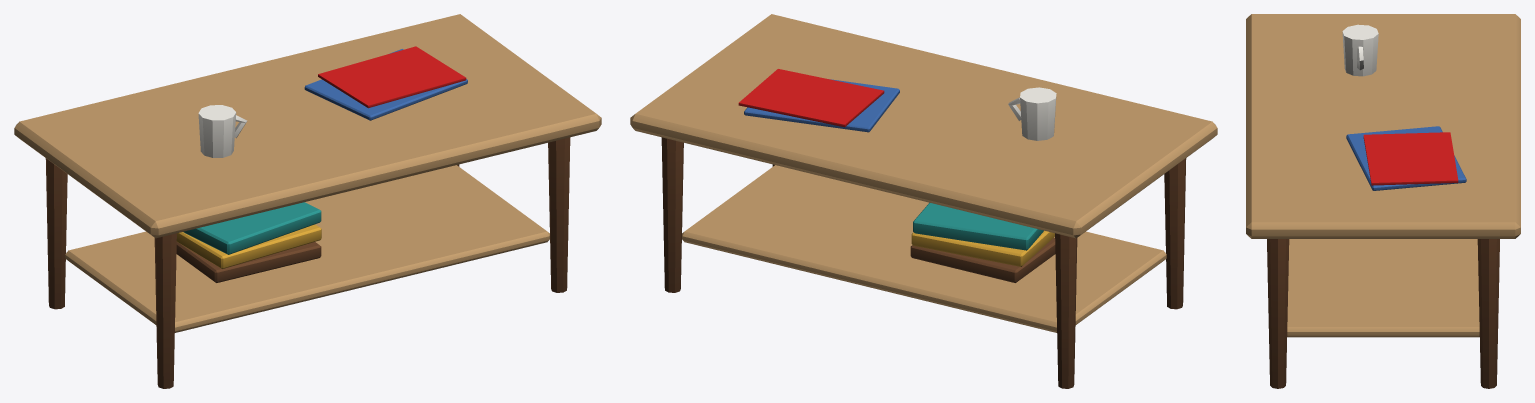
Rendered from coffee_table_01.glb.
3 renders of one model, left to right at view 1: azimuth 30°, elevation 25°; view 2: azimuth 150°, elevation 25°; view 3: azimuth 270°, elevation 25°, orthographic. The views are drawn at different scales.
Parts seen in each view (by area): view 1: coffee_table_01_LOD0; view 2: coffee_table_01_LOD0; view 3: coffee_table_01_LOD0.
Part boxes in pixels (left/top/right/bottom): coffee_table_01_LOD0: left=14, top=14, right=601, bottom=388; coffee_table_01_LOD0: left=630, top=14, right=1217, bottom=388; coffee_table_01_LOD0: left=1246, top=14, right=1520, bottom=388.
Size of what is drawn, in the model's own units: 1.1 by 0.51 by 0.6.
1 material, 1 textured.
